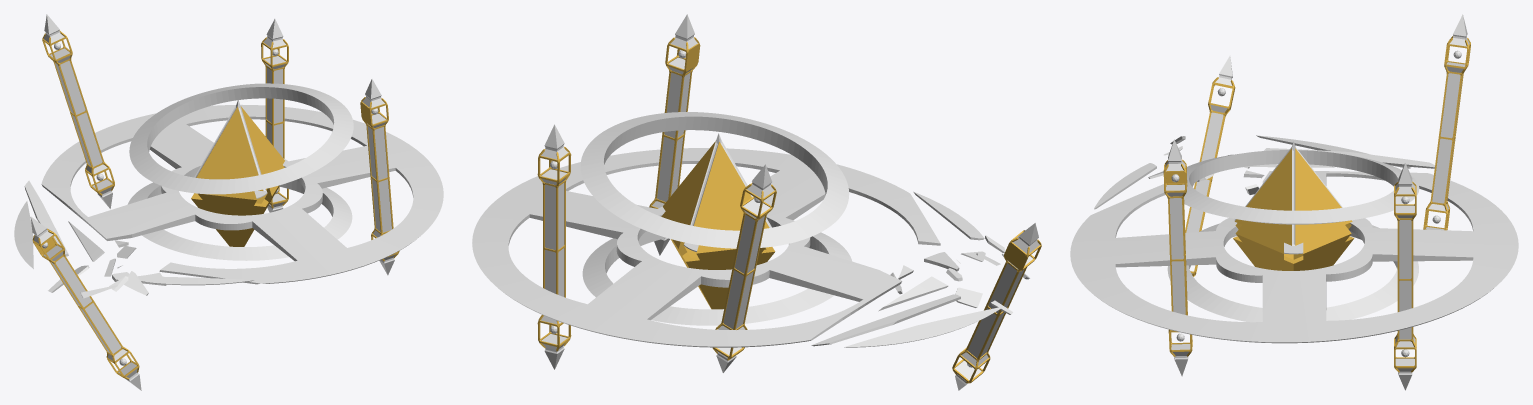
The model's file is TransitionRingHalfDamage.fbx.
The picture shows the model from 3 angles, left to right: view 1: azimuth 30°, elevation 25°; view 2: azimuth 150°, elevation 25°; view 3: azimuth 270°, elevation 25°; orthographic projection. The views are drawn at different scales.
Visible parts, largest first — view 1: Cube.006; view 2: Cube.006; view 3: Cube.006.
Boxes of the visible parts, x1,y1,x2,y2 form: Cube.006: (14,14,443,390); Cube.006: (472,14,1041,390); Cube.006: (1070,14,1518,390).
Bounding box in the file's own units: 7626 × 4832 × 6422.
